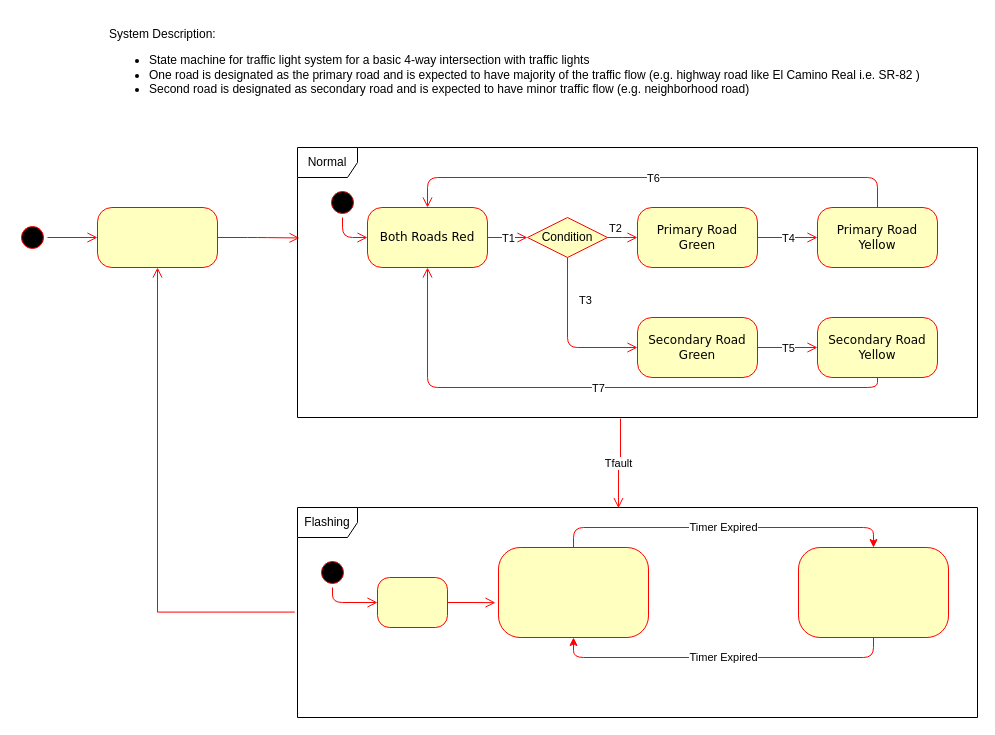
The diagram is 995 pixels wide and 735 high, and some of its shapes have lost their labels. The shapes that lost their labels are listed below. From the top down, each one's centre as x and y in pixels, then its label:
point 157,237: Initialize
point 412,602: Both Red
point 573,592: Primary Road Yellow Secondary Road Red
point 873,592: Both Roads Off
